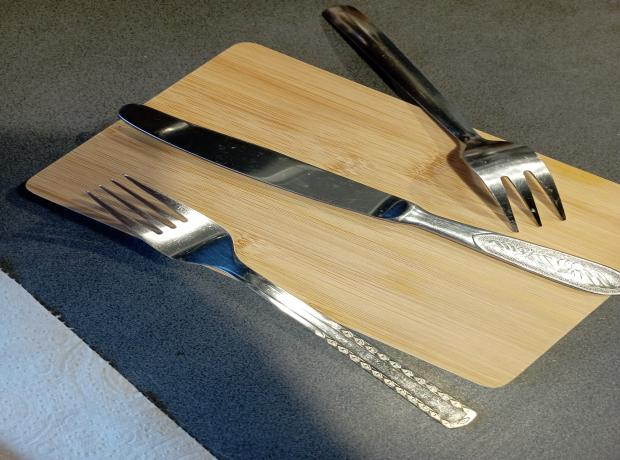metal: (86, 173, 479, 430), (118, 101, 620, 298), (321, 5, 569, 234)
